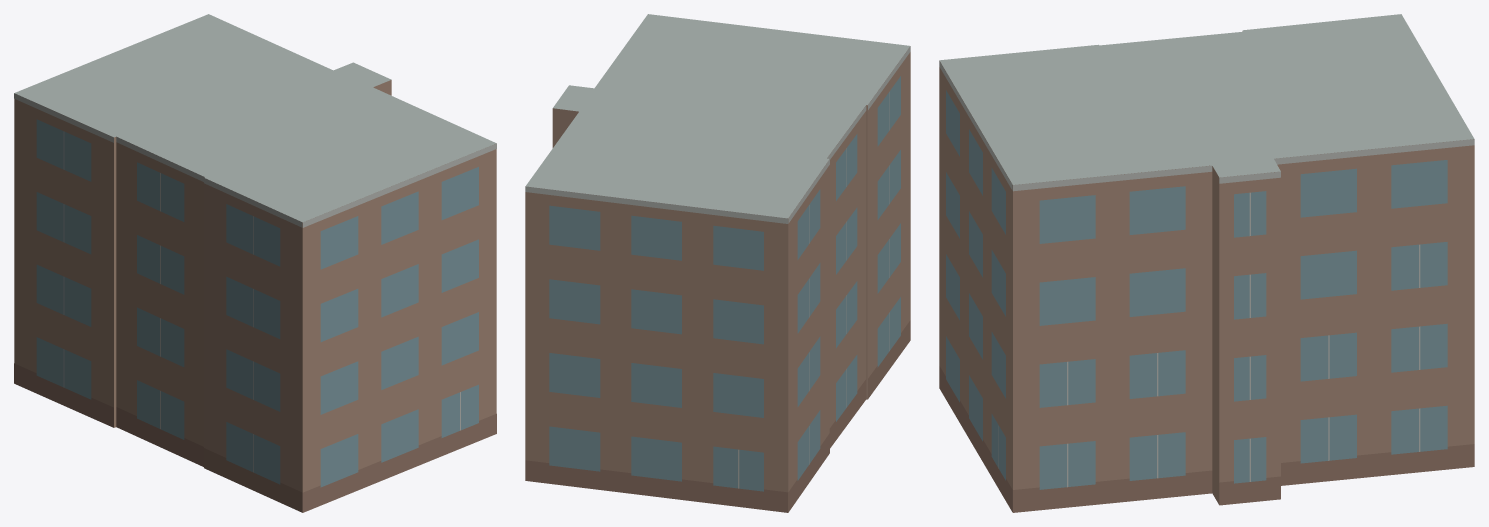
The model's file is survey-upis-32829763.glb.
3 renders of one model, left to right at view 1: azimuth 30°, elevation 25°; view 2: azimuth 150°, elevation 25°; view 3: azimuth 270°, elevation 25°, orthographic. The views are drawn at different scales.
Parts seen in each view (by area): view 1: survey-upis-32829763.tmp; view 2: survey-upis-32829763.tmp; view 3: survey-upis-32829763.tmp.
Part boxes in pixels (left/top/right/bottom): survey-upis-32829763.tmp: left=14, top=14, right=496, bottom=512; survey-upis-32829763.tmp: left=525, top=14, right=910, bottom=512; survey-upis-32829763.tmp: left=939, top=14, right=1474, bottom=512.
Size of the model in its own units: 14.33 by 12.8 by 18.95.
